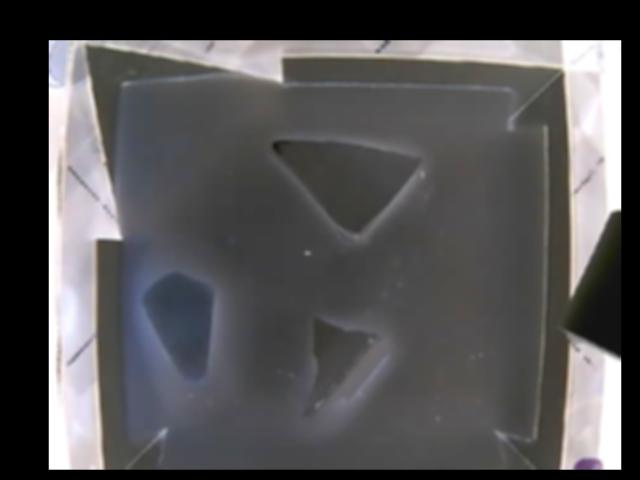China: (267, 141, 428, 238), (298, 319, 387, 416)
Mooli: (144, 268, 214, 383)
